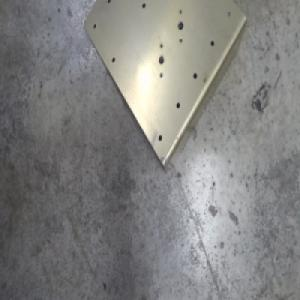MetalSheet: (83, 0, 247, 174)
